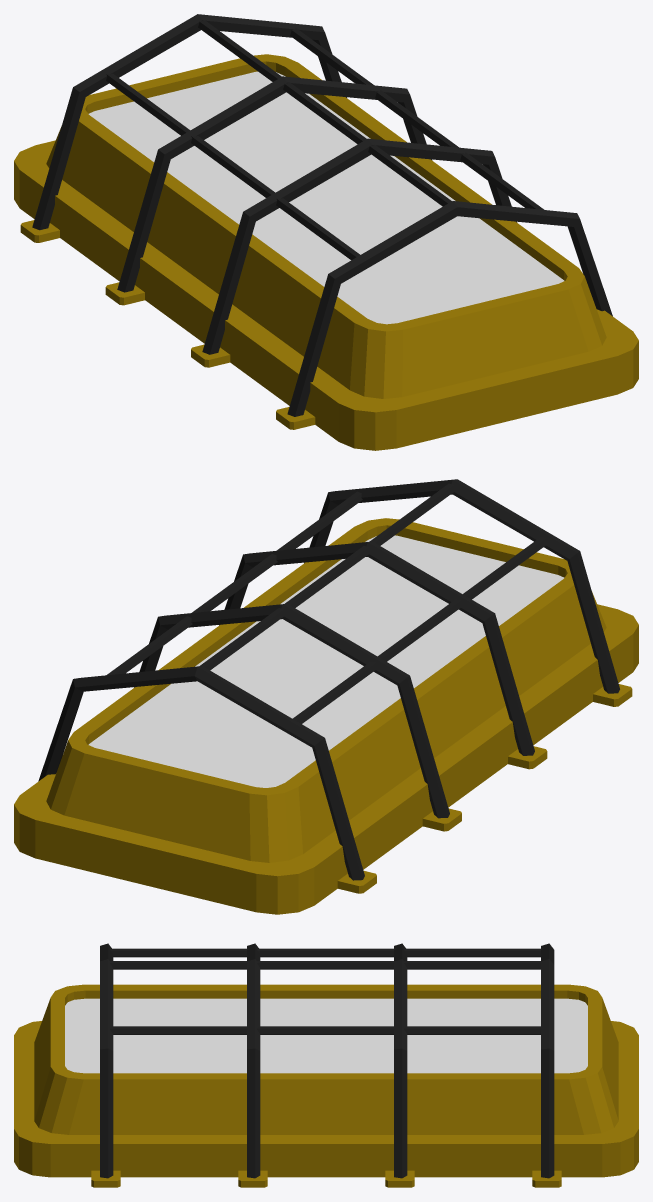
The model's file is Light.fbx.
3 views of the same model, one above another, from view 1: azimuth 30°, elevation 25°; view 2: azimuth 150°, elevation 25°; view 3: azimuth 270°, elevation 25° (orthographic). The views are drawn at different scales.
Parts seen in each view (by area): view 1: Cube, Circle, Circle.003; view 2: Cube, Circle, Circle.003; view 3: Cube, Circle, Circle.003.
Part boxes in pixels (x1,y1,x2,y2): Cube: (14,54,638,450); Circle: (20,14,612,429); Circle.003: (106,20,544,260); Cube: (14,518,638,914); Circle: (38,479,632,893); Circle.003: (106,483,546,723); Cube: (14,984,638,1177); Circle: (91,943,561,1187); Circle.003: (109,948,543,1034).
Size of the model in its own units: 93 by 46.9 by 170.
